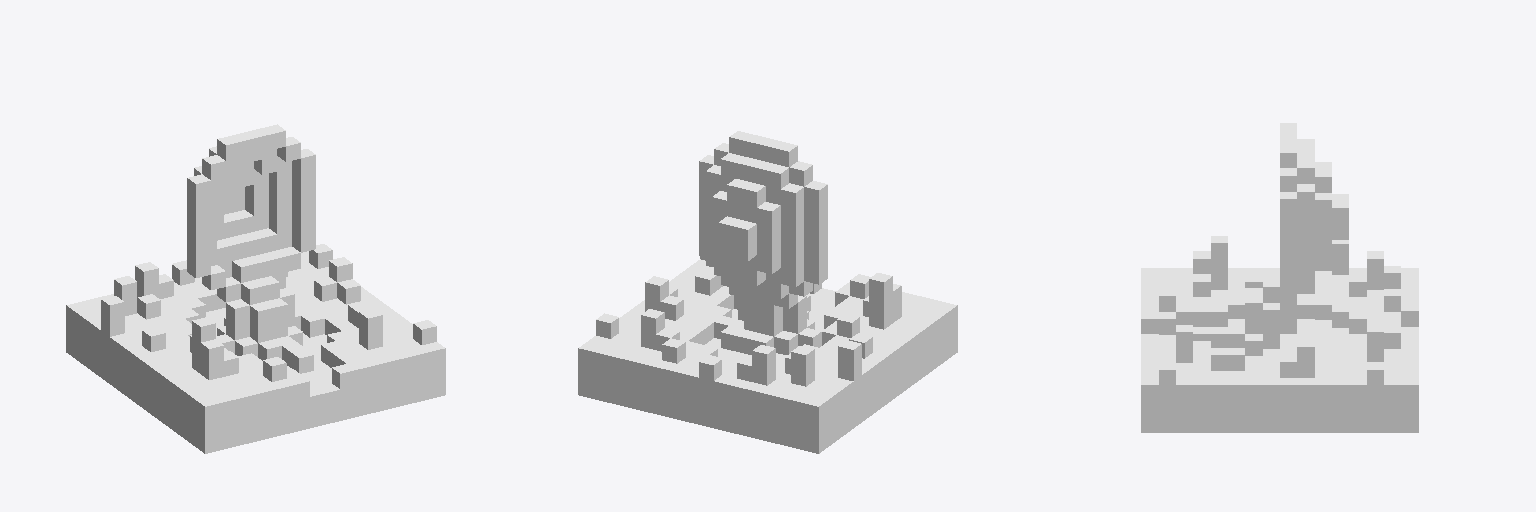
The model's file is portal.obj.
3 renders of one model, left to right at view 1: azimuth 30°, elevation 25°; view 2: azimuth 150°, elevation 25°; view 3: azimuth 270°, elevation 25°, orthographic.
Visible parts, largest first — view 1: CavePortal; view 2: CavePortal; view 3: CavePortal.
Part boxes in pixels (x1,y1,x2,y2): CavePortal: (66,124,445,453); CavePortal: (578,131,957,453); CavePortal: (1141,123,1418,432).
Bounding box in the file's own units: 16 × 15 × 16.